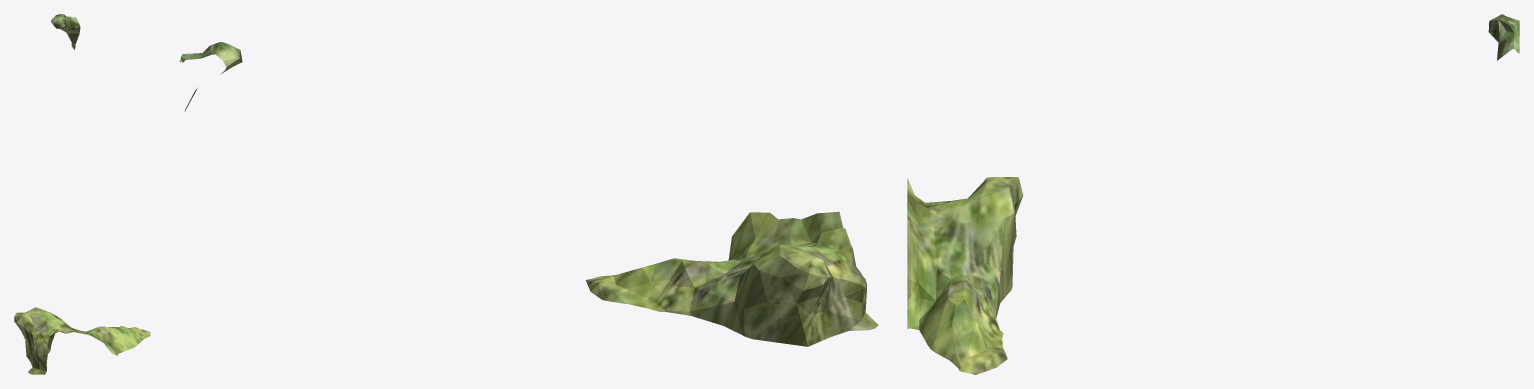
The picture shows the model from 3 angles, left to right: view 1: azimuth 30°, elevation 25°; view 2: azimuth 150°, elevation 25°; view 3: azimuth 270°, elevation 25°; orthographic projection. The views are drawn at different scales.
Size of the model in its own units: 2.13 by 2.14 by 2.95.
1 material, 1 textured.
